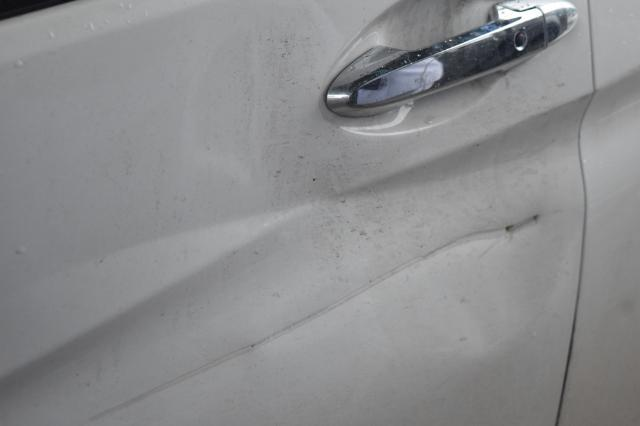dent: (196, 32, 574, 344)
